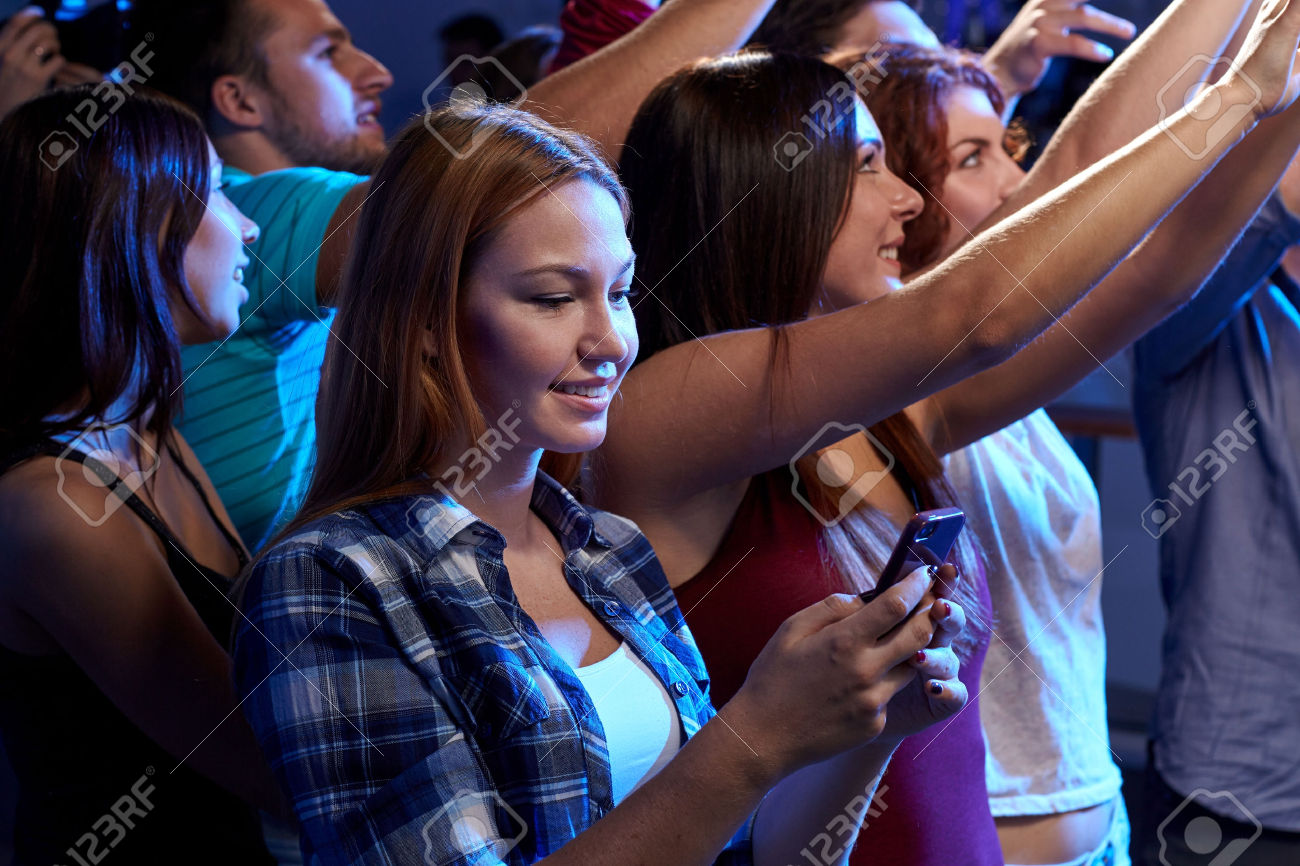smartphone: (869, 504, 970, 642)
